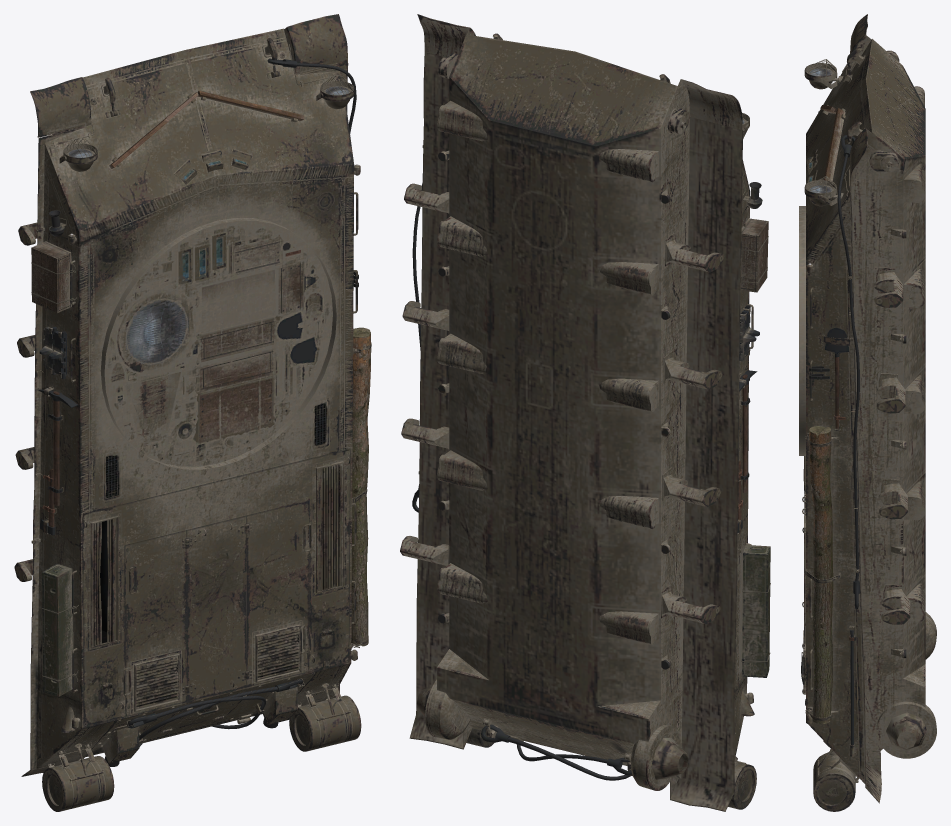
The model's file is Hull.glb.
3 renders of one model, left to right at view 1: azimuth 30°, elevation 25°; view 2: azimuth 150°, elevation 25°; view 3: azimuth 270°, elevation 25°, orthographic. The views are drawn at different scales.
Parts seen in each view (by area): view 1: set_0_group_0; view 2: set_0_group_0; view 3: set_0_group_0.
Boxes of the visible parts, <box> form: set_0_group_0: <box>14,14,371,811</box>; set_0_group_0: <box>400,14,770,811</box>; set_0_group_0: <box>799,14,936,811</box>.
Size of the model in its own units: 3.33 by 6.88 by 1.29.
1 material, 1 textured.
